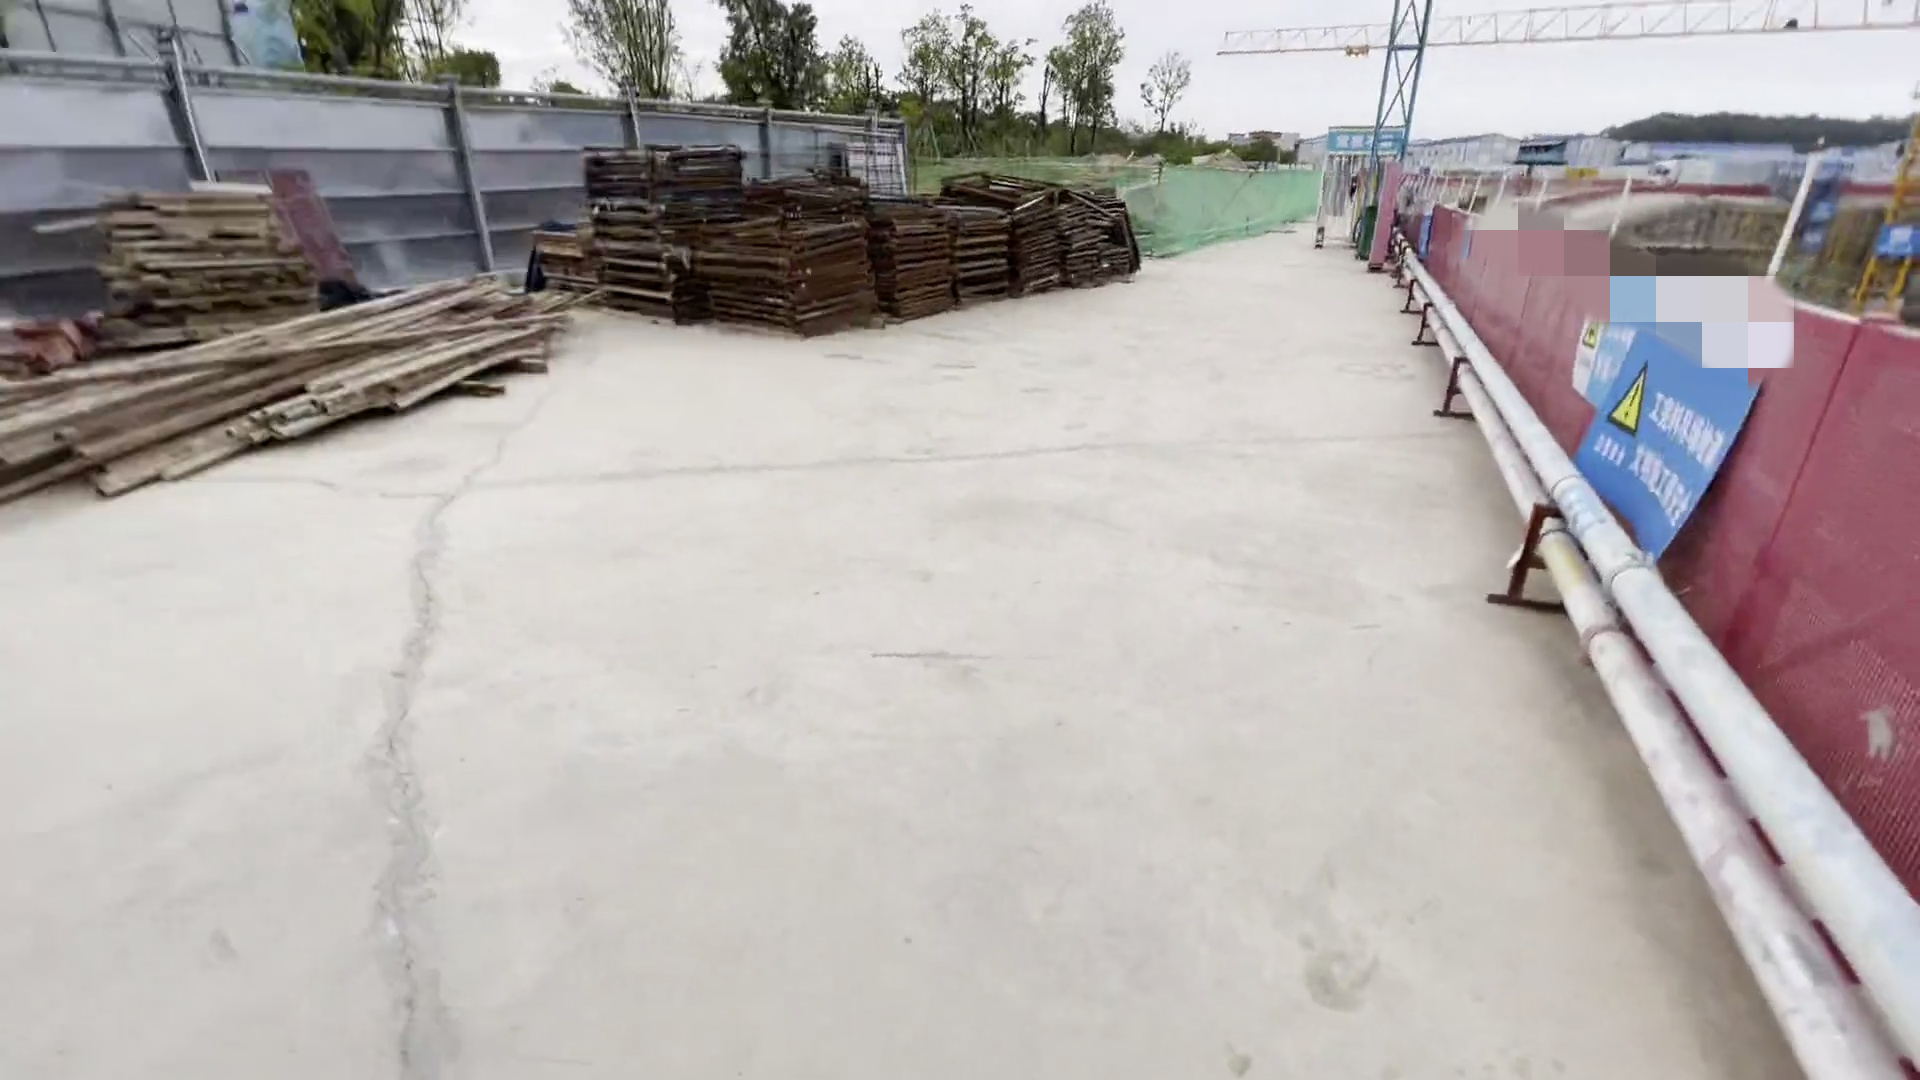fence: (1377, 166, 1875, 877)
slogan: (1551, 277, 1745, 538), (1327, 123, 1415, 161)
wood: (9, 301, 546, 460), (75, 181, 324, 324)
